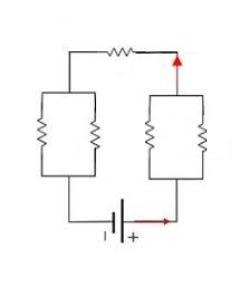resistor: (95, 33, 139, 71), (28, 108, 53, 160), (84, 107, 108, 159), (138, 110, 161, 155), (189, 115, 212, 159)
